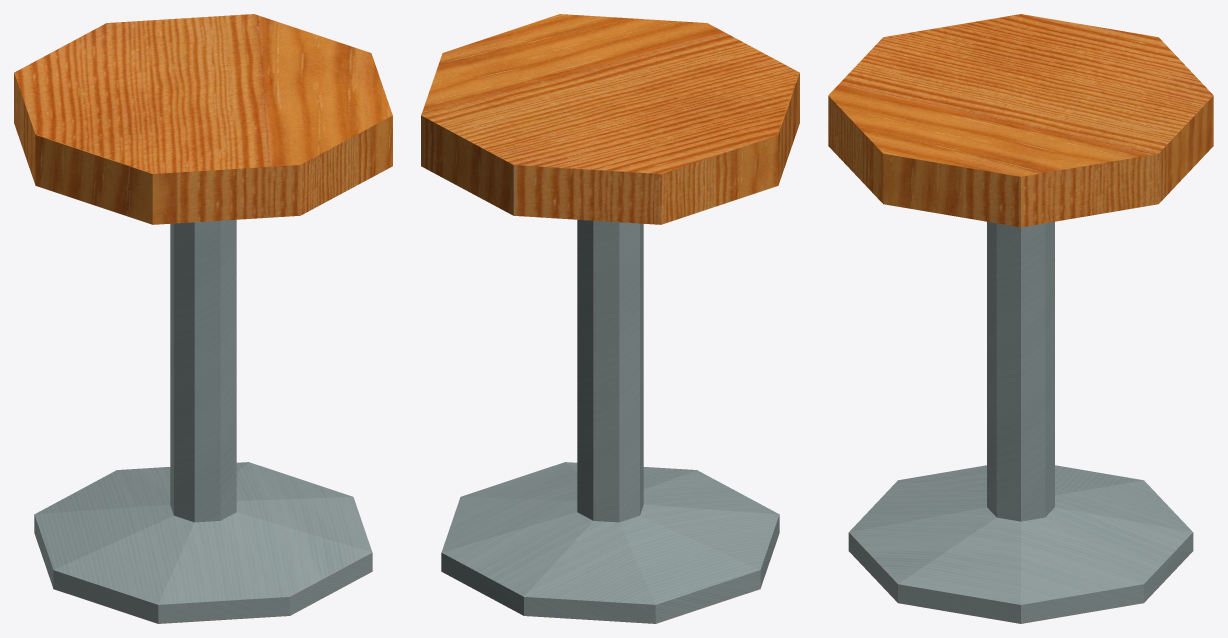
The model's file is stool.obj.
3 renders of one model, left to right at view 1: azimuth 30°, elevation 25°; view 2: azimuth 150°, elevation 25°; view 3: azimuth 270°, elevation 25°, orthographic.
Parts seen in each view (by area): view 1: stool; view 2: stool; view 3: stool.
Part boxes in pixels (bbox=[...]): stool: bbox=[14, 14, 392, 623]; stool: bbox=[421, 14, 799, 623]; stool: bbox=[828, 14, 1213, 623].
Size of the model in its own units: 0.7419 by 0.9679 by 0.7419.
1 material, 1 textured.
